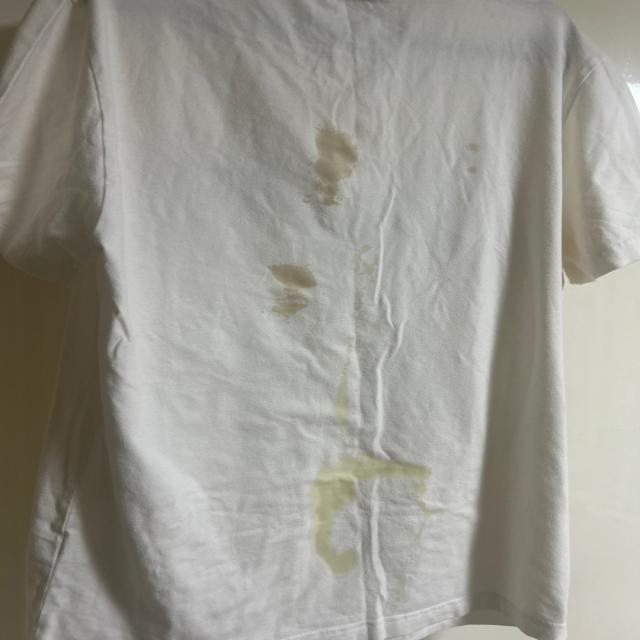stain: (312, 445, 441, 490), (312, 480, 372, 572), (305, 125, 366, 212), (267, 258, 321, 316), (333, 363, 366, 425), (342, 241, 390, 282), (455, 143, 485, 181)
